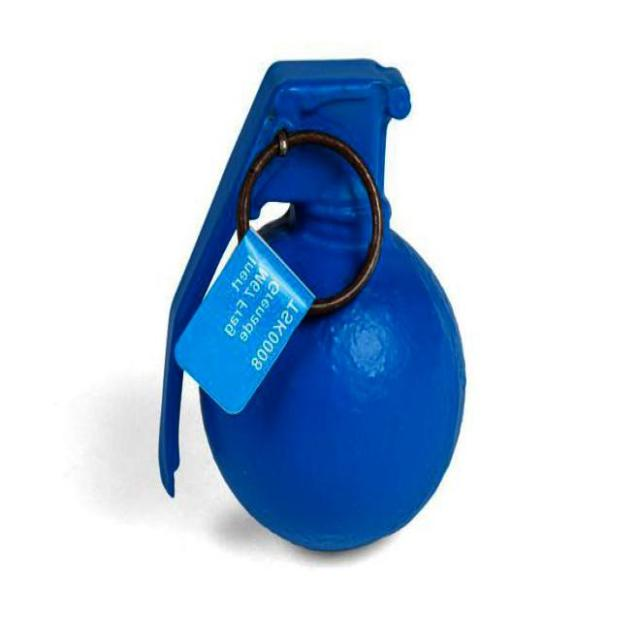grenade: (157, 58, 468, 555)
